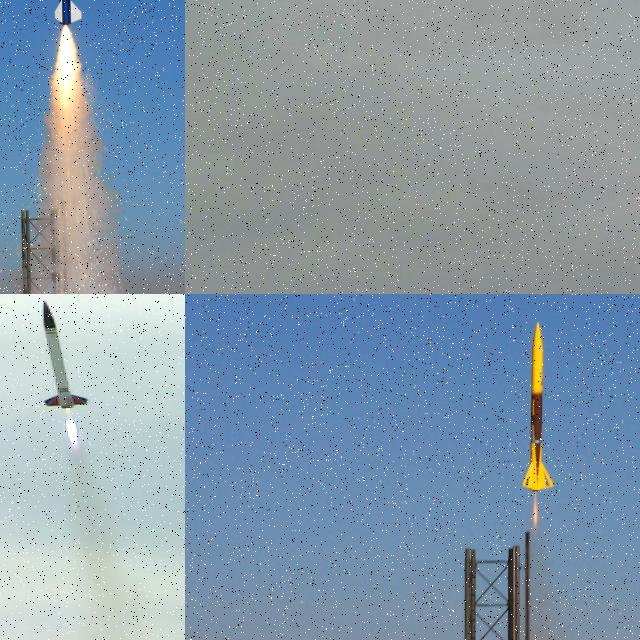Rocket: (522, 320, 554, 492), (41, 299, 88, 409)
